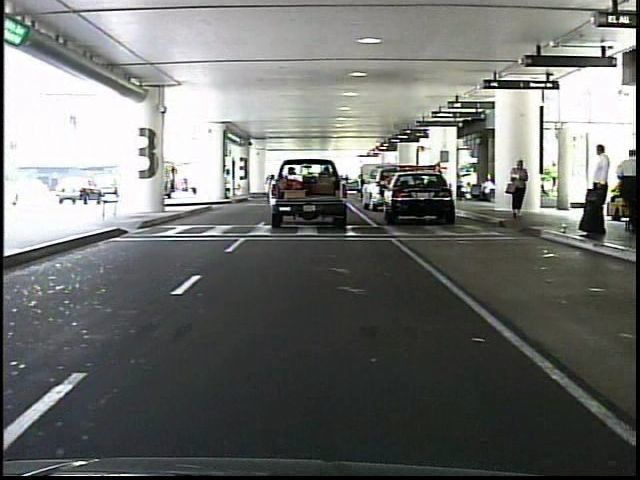person: (579, 139, 614, 243), (614, 143, 638, 232), (507, 151, 534, 222), (432, 160, 448, 205)
